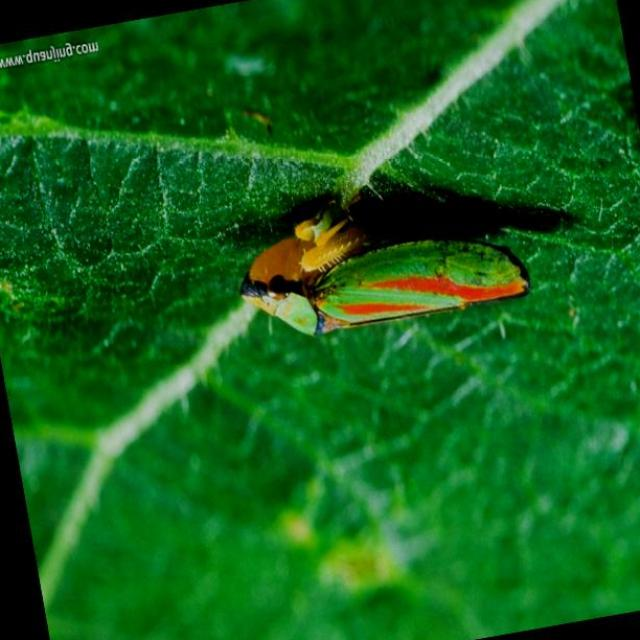green leaf hopper: (241, 196, 528, 336)
